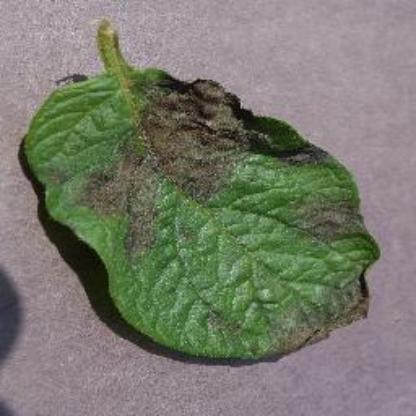Late-Blight: (9, 8, 406, 386)
